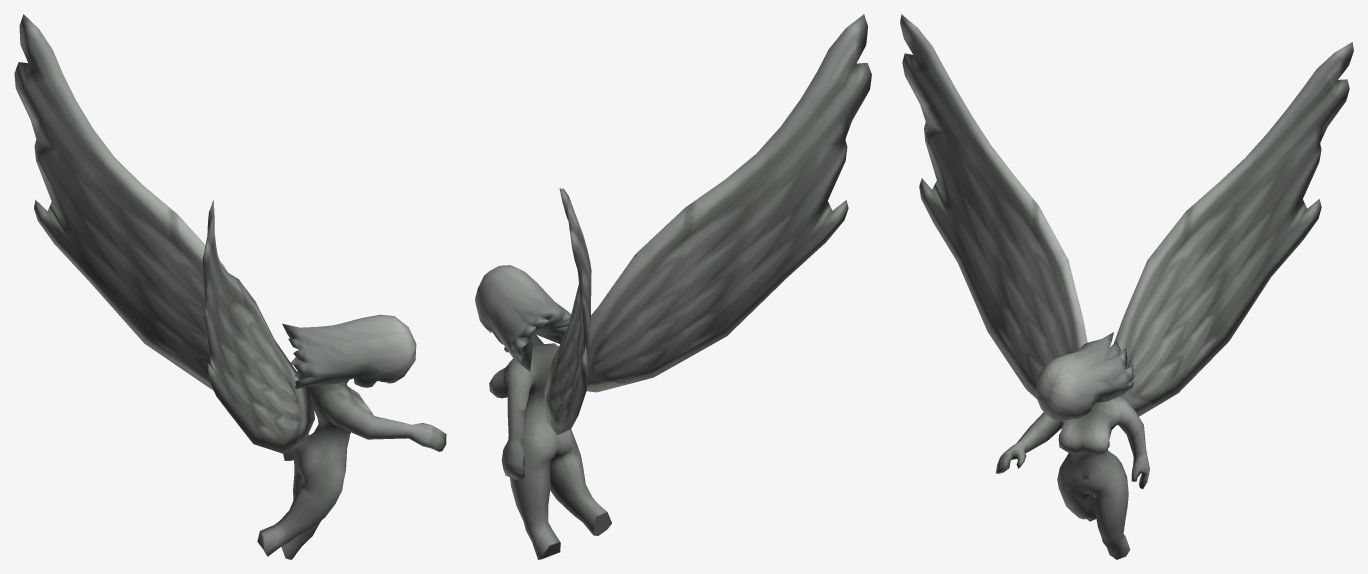
Rendered from sc_dungeon_moshenta_diaoxiang_002_b.FBX.
3 views of the same model, side by side, from view 1: azimuth 30°, elevation 25°; view 2: azimuth 150°, elevation 25°; view 3: azimuth 270°, elevation 25° (orthographic). The views are drawn at different scales.
Parts seen in each view (by area): view 1: sc_dungeon_moshenta_diaoxiang_002_b; view 2: sc_dungeon_moshenta_diaoxiang_002_b; view 3: sc_dungeon_moshenta_diaoxiang_002_b.
Boxes of the visible parts, x1=… form: sc_dungeon_moshenta_diaoxiang_002_b: x1=14, y1=14, x2=446, y2=559; sc_dungeon_moshenta_diaoxiang_002_b: x1=475, y1=14, x2=871, y2=559; sc_dungeon_moshenta_diaoxiang_002_b: x1=900, y1=14, x2=1353, y2=559.
Size of the model in its own units: 3 by 4.25 by 4.72.
Materials: 1 (1 with a texture image).
